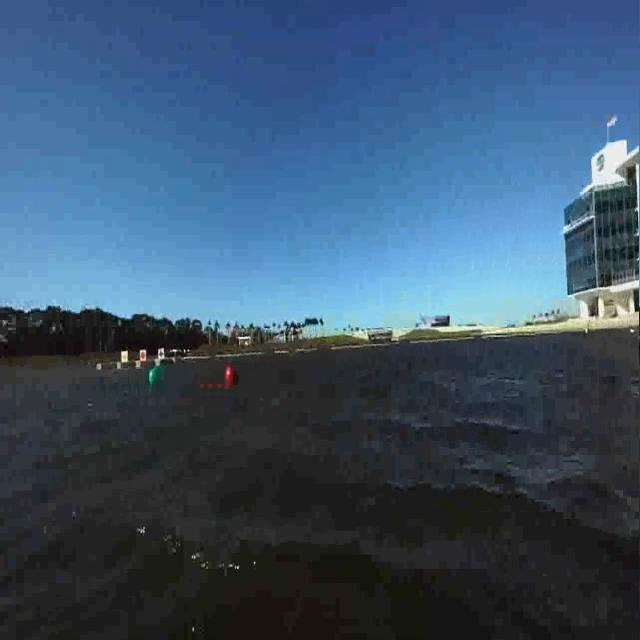green-buoy: (146, 354, 167, 388)
red-buoy: (224, 363, 236, 387)
